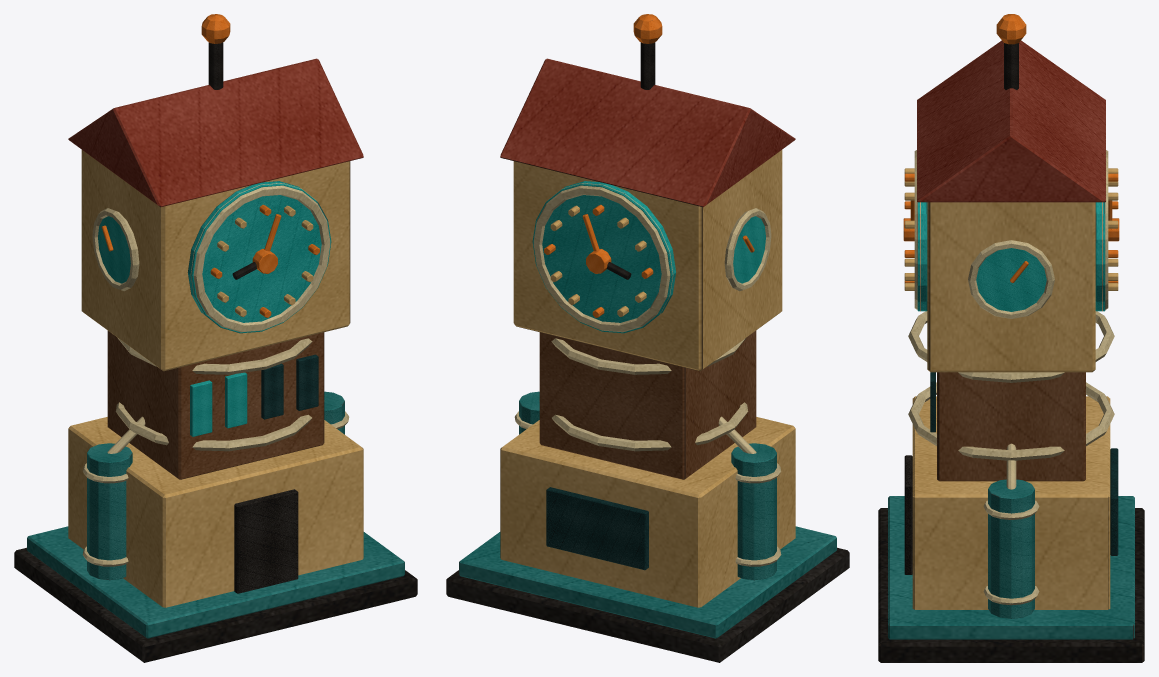
The model's file is decay-clock.glb.
The picture shows the model from 3 angles, left to right: view 1: azimuth 30°, elevation 25°; view 2: azimuth 150°, elevation 25°; view 3: azimuth 270°, elevation 25°; orthographic projection. The views are drawn at different scales.
Visible parts, largest first — view 1: DecayClockE6; view 2: DecayClockE6; view 3: DecayClockE6.
Part boxes in pixels (x1=…): DecayClockE6: x1=14, y1=14, x2=417, y2=662; DecayClockE6: x1=446, y1=14, x2=849, y2=662; DecayClockE6: x1=878, y1=14, x2=1144, y2=662.
Bounding box in the file's own units: 3.32 × 6.54 × 2.72.
Materials: 1 (1 with a texture image).
